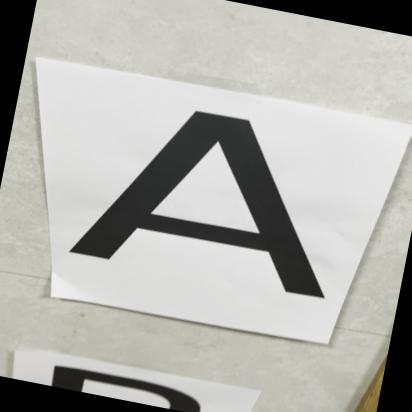seat: (68, 85, 355, 306)
